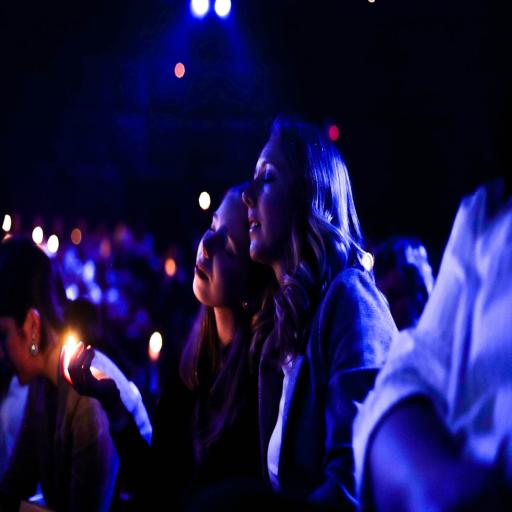face: (243, 136, 296, 269), (193, 192, 250, 307), (0, 317, 37, 384)
